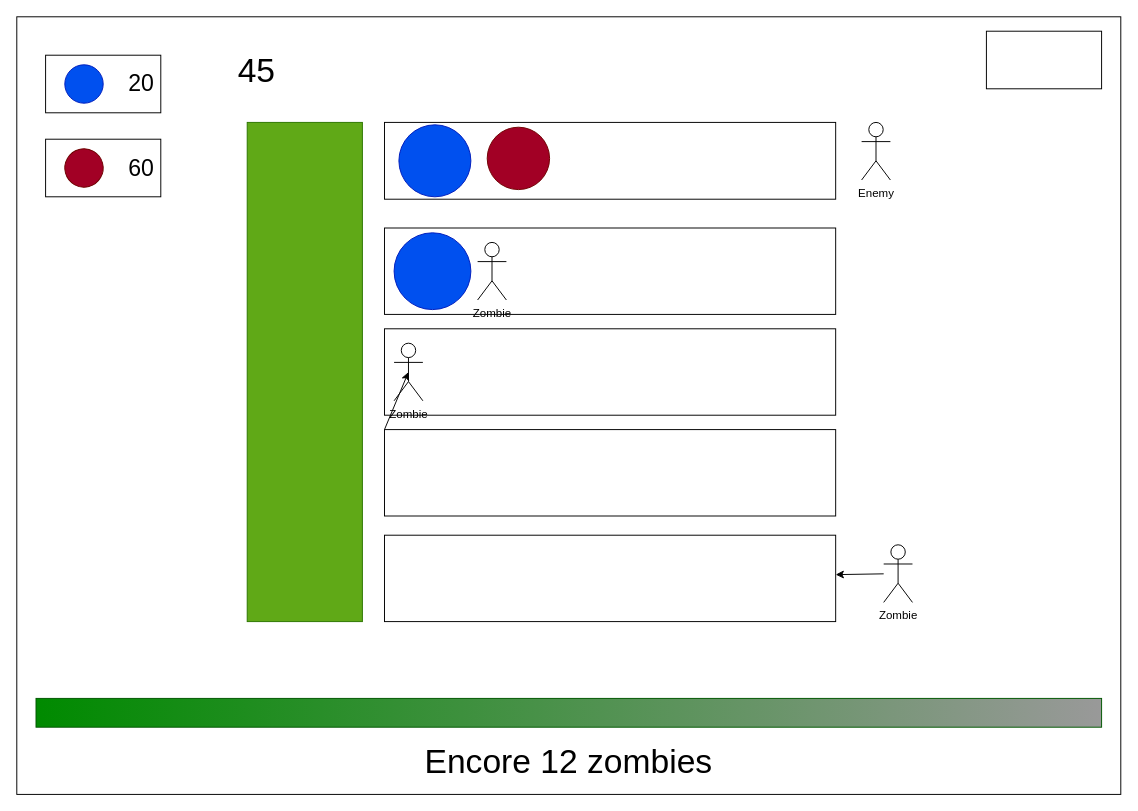
The diagram is 1138 pixels wide and 811 high, and some of its shapes have lost their labels. The shapes that lost their labels are listed below. From the top down, each one's centre as x and y in pixels, then its label:
the point at 1043,59: Menu
the point at 304,371: Home
